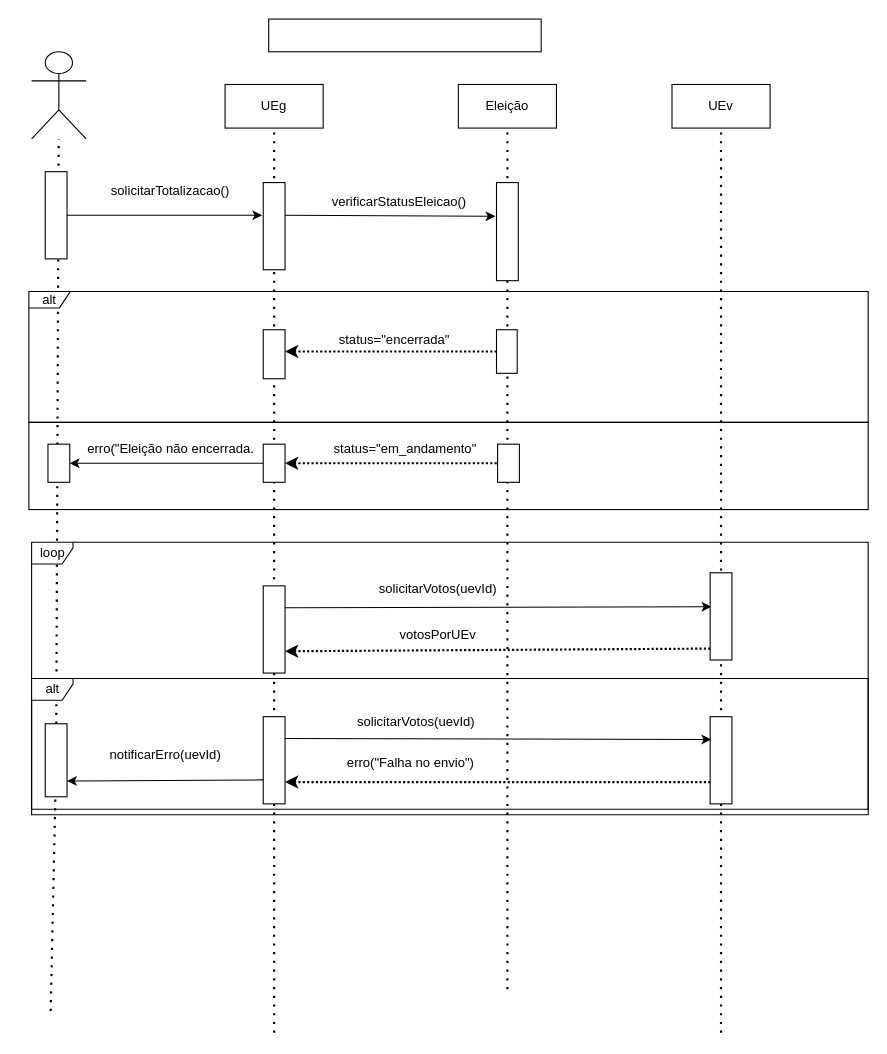
This 887x1054 diagram has some shape labels left out. The centre of each missing label's shape, as x and y in pixels:
"Administrador" goes at (x=58, y=95).
"UC-06 — Totalizar votos" goes at (x=404, y=35).
